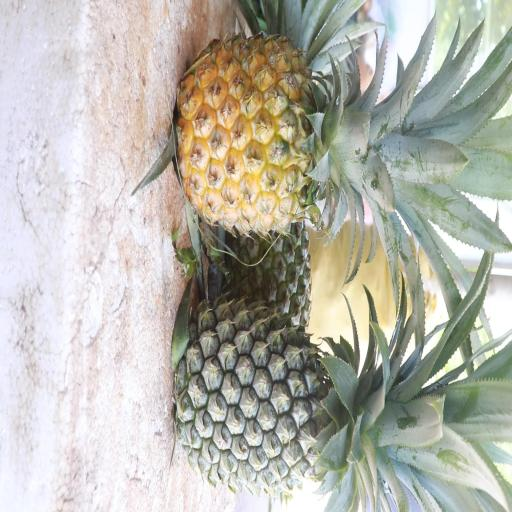Pineapple - v8 v1: (167, 26, 433, 246)
